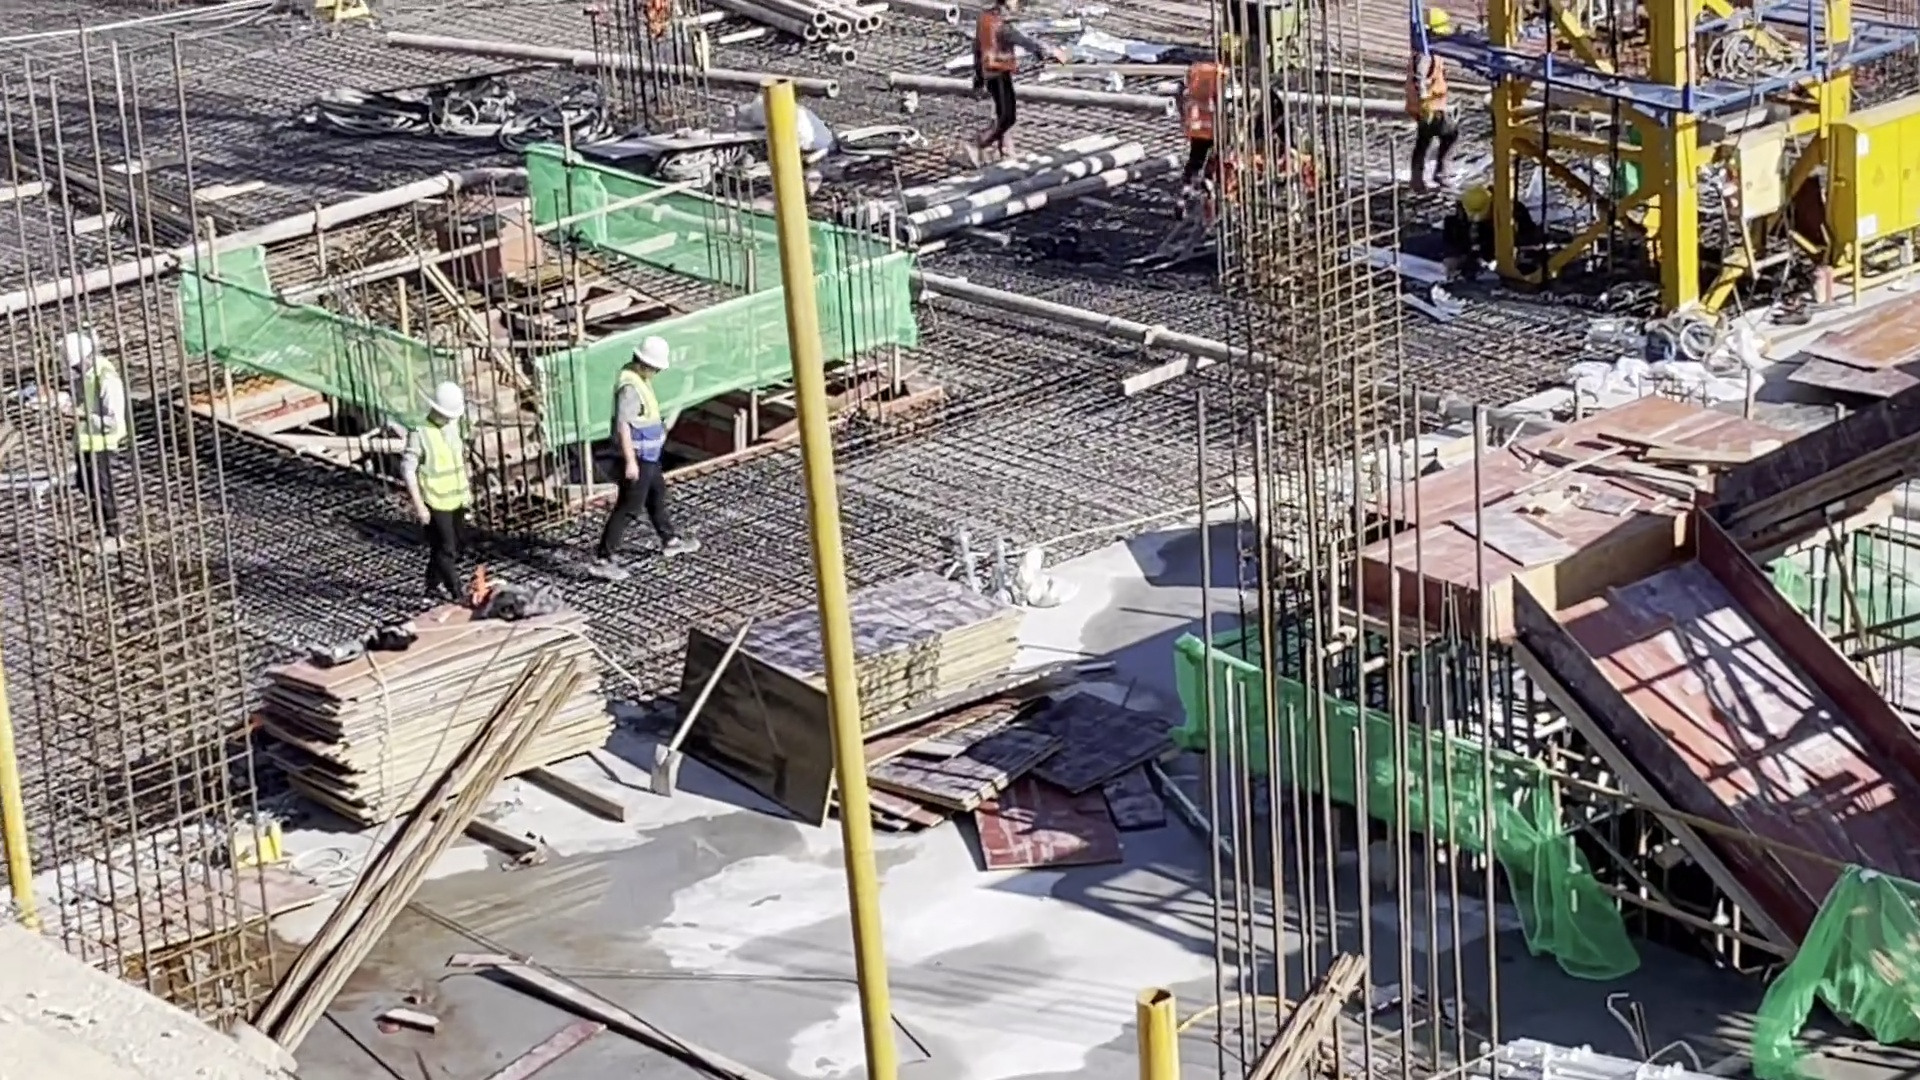helmet: (625, 340, 670, 369), (428, 382, 467, 414), (1418, 13, 1454, 38), (63, 340, 92, 366)
person: (597, 337, 699, 578), (45, 339, 144, 565), (403, 380, 481, 598), (966, 2, 1064, 169), (1406, 11, 1470, 193), (1186, 49, 1234, 201)
vest: (410, 423, 467, 519), (615, 369, 663, 465), (81, 361, 124, 458), (1188, 64, 1226, 140), (976, 13, 1015, 77), (1413, 51, 1446, 125)
